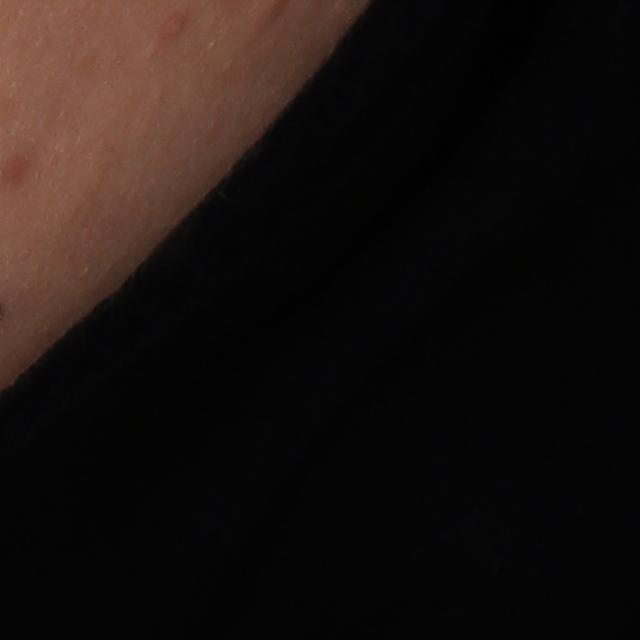papule: (154, 10, 192, 44)
